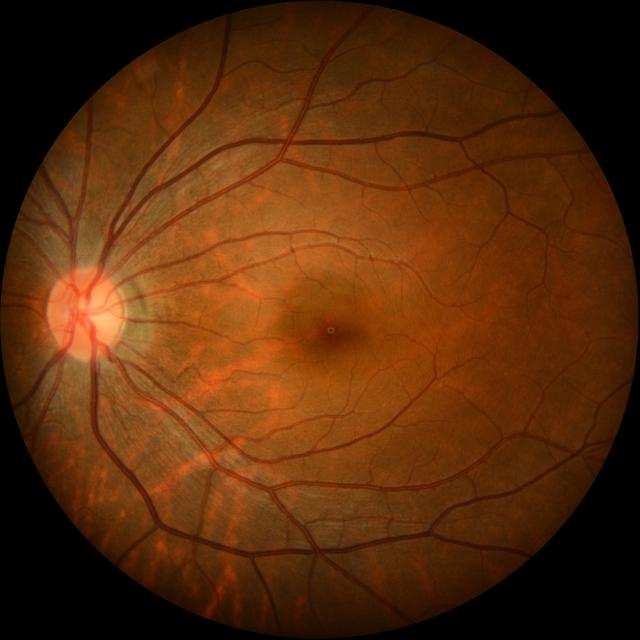OC: (73, 293, 107, 331)
OD: (48, 270, 122, 357)
